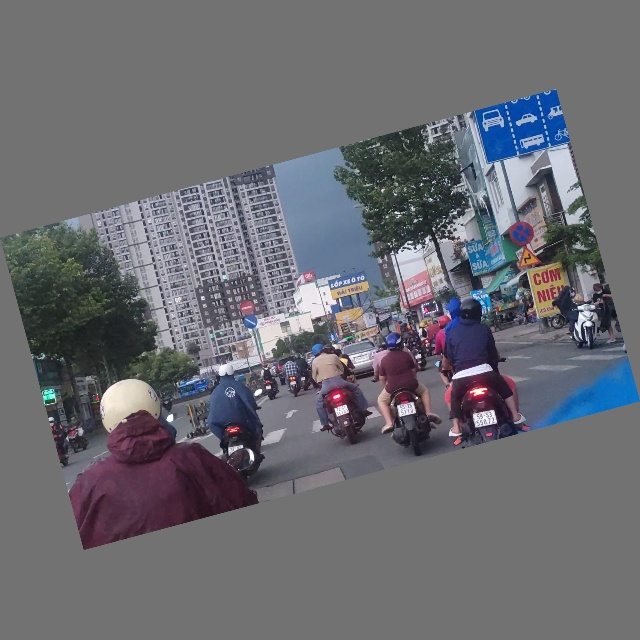I.407a: (328, 333, 337, 343)
I.434a: (390, 311, 400, 322)
P.102: (239, 300, 255, 317)
P.130: (507, 219, 536, 249)
R.302a: (243, 314, 259, 331)
R.415a: (474, 90, 570, 165)
W.202b: (513, 244, 543, 271)
